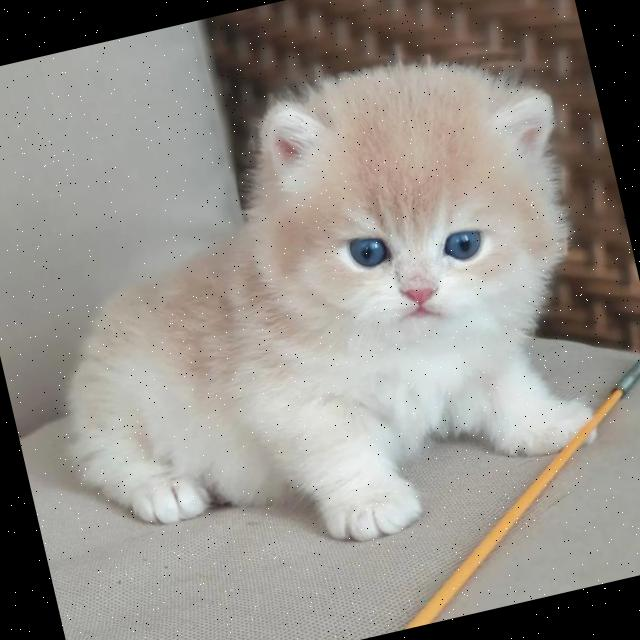cat: (0, 7, 640, 585)
